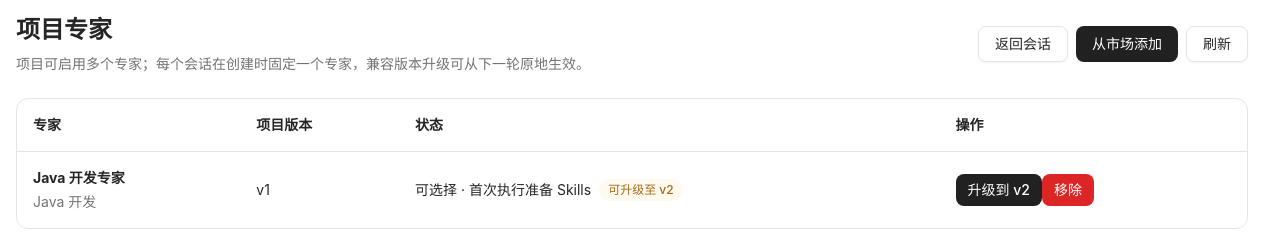
Test case: upgrades a specified expert from the project expert list
The image size is (1265, 246).
Click the button "升级到 v2" at (999, 190), box [956,174,1042,206]
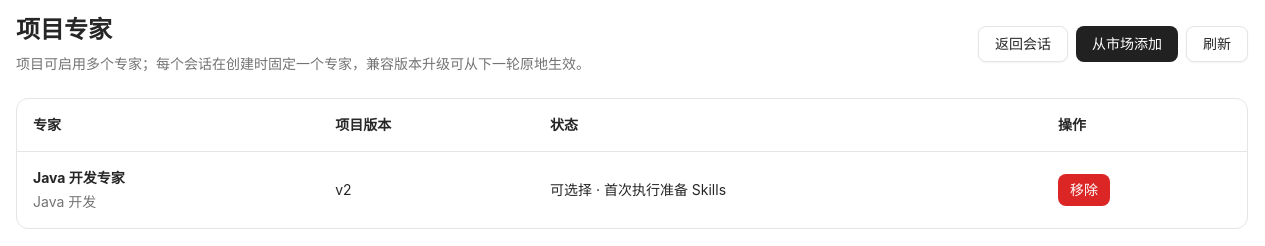
Check: the text "v2" is shown, box [319,152,534,228]
Check: the text "可升级至 v2" is gone
